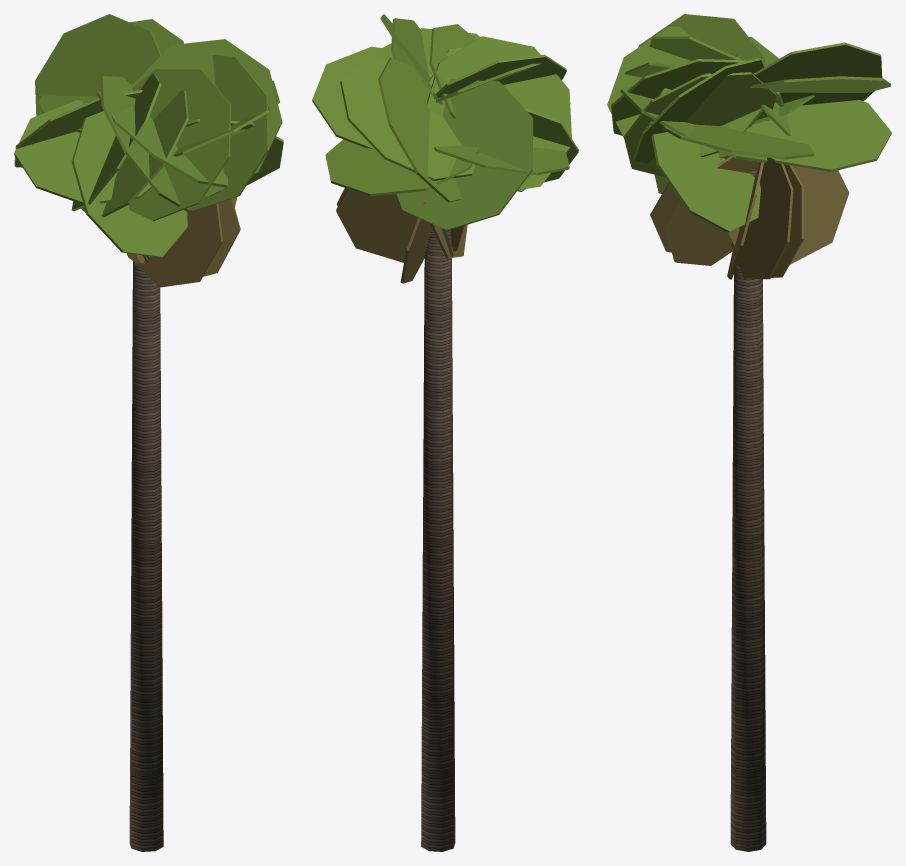
File: palm_palmyrah.fbx
The picture shows the model from 3 angles, left to right: view 1: azimuth 30°, elevation 25°; view 2: azimuth 150°, elevation 25°; view 3: azimuth 270°, elevation 25°; orthographic projection.
Parts seen in each view (by area): view 1: Palmyrah; view 2: Palmyrah; view 3: Palmyrah.
Part boxes in pixels (x1=…): Palmyrah: x1=14, y1=14, x2=283, y2=851; Palmyrah: x1=312, y1=14, x2=578, y2=851; Palmyrah: x1=607, y1=14, x2=891, y2=851.
Size of the model in its own units: 4.1 by 13.01 by 4.14.
